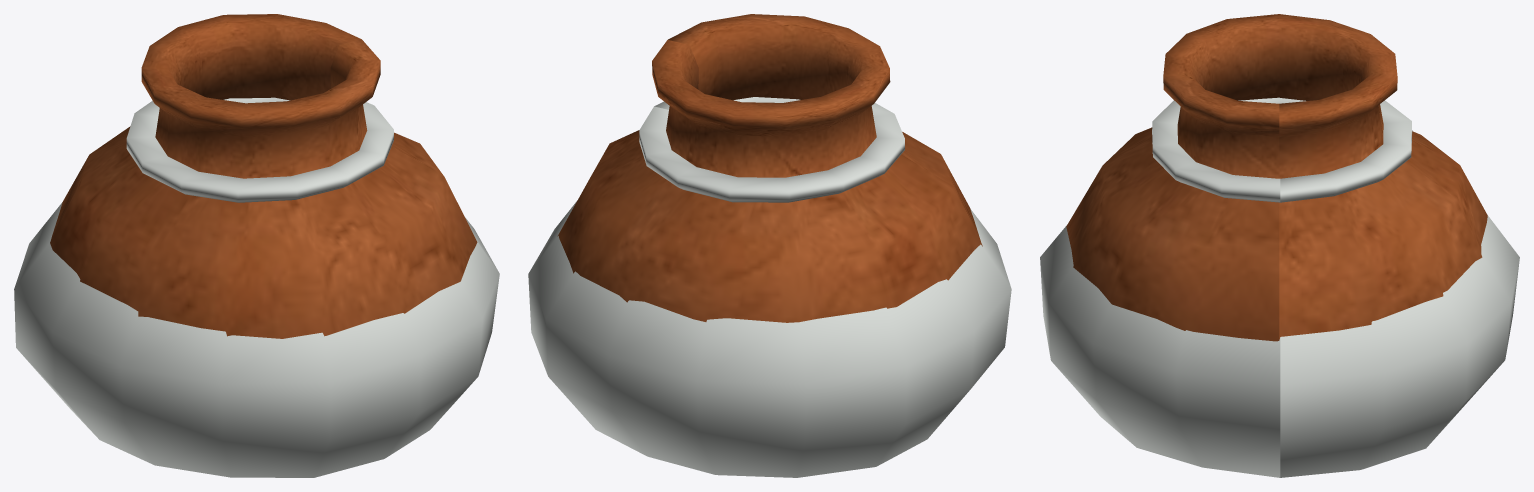
Rendered from prop_pots_lod1.glb.
The picture shows the model from 3 angles, left to right: view 1: azimuth 30°, elevation 25°; view 2: azimuth 150°, elevation 25°; view 3: azimuth 270°, elevation 25°; orthographic projection.
Visible parts, largest first — view 1: clay_rice_pot, aluminium_handi; view 2: clay_rice_pot, aluminium_handi; view 3: clay_rice_pot, aluminium_handi.
Boxes of the visible parts, x1=… form: clay_rice_pot: x1=50, y1=14, x2=477, y2=338; aluminium_handi: x1=14, y1=97, x2=499, y2=477; clay_rice_pot: x1=557, y1=14, x2=982, y2=322; aluminium_handi: x1=528, y1=97, x2=1011, y2=477; clay_rice_pot: x1=1066, y1=14, x2=1487, y2=341; aluminium_handi: x1=1040, y1=97, x2=1519, y2=477.
Size of the model in its own units: 0.38 by 0.3 by 0.3772.
Materials: 3 (1 with a texture image).
